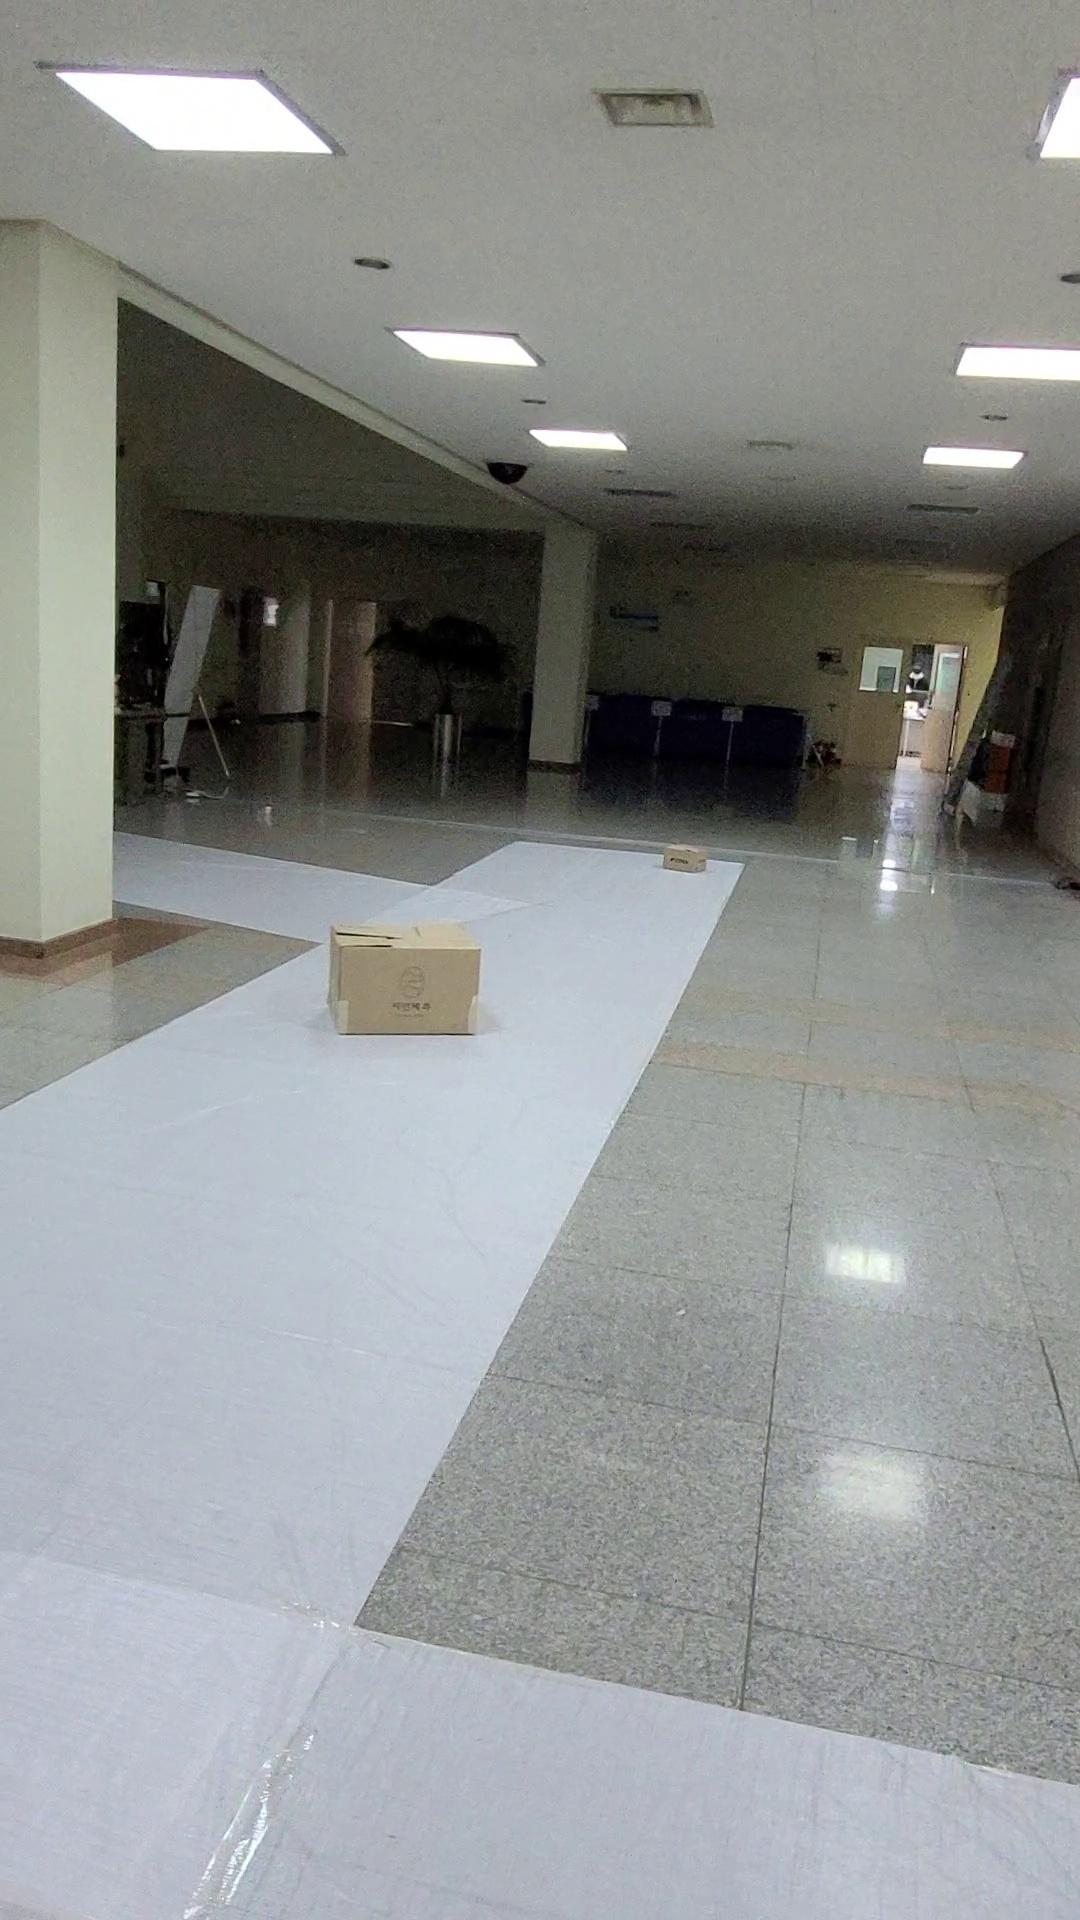Box: (311, 909, 510, 1068), (608, 828, 727, 899)
